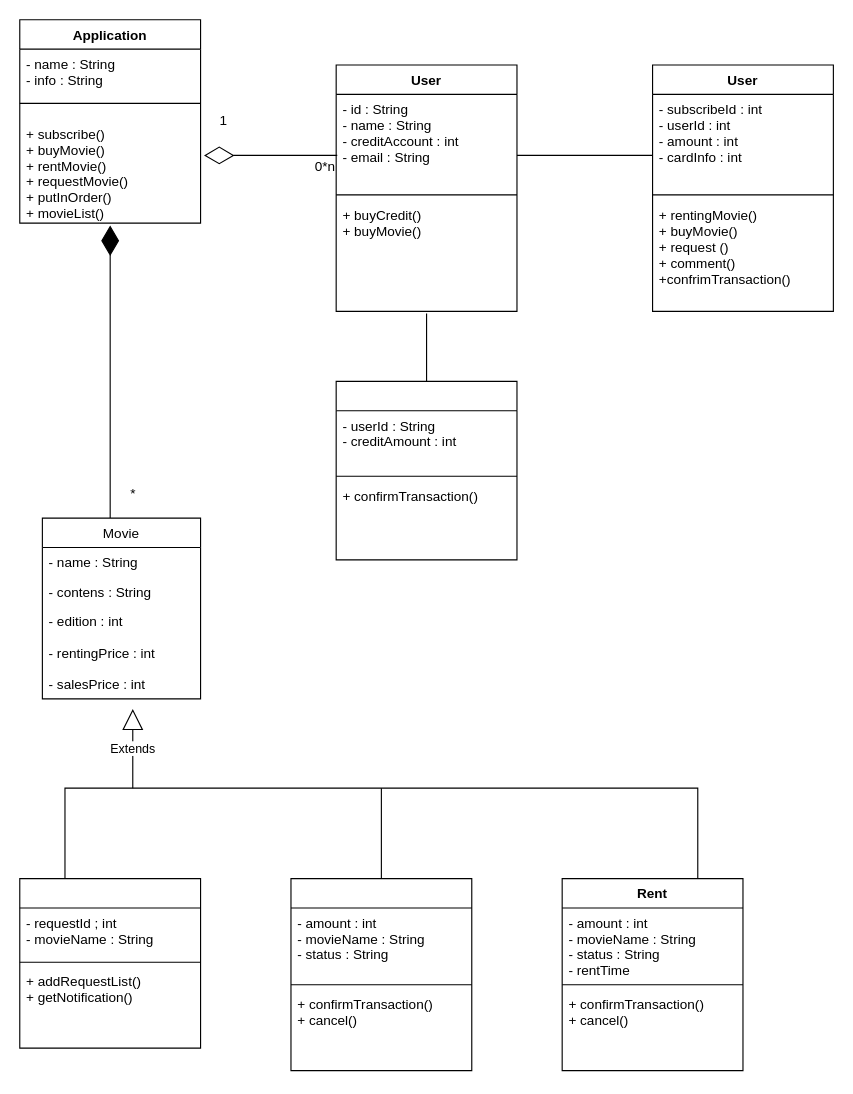
Some shapes in this 853 by 1094 pixel diagram are drawn without their labels. The shapes that lost their labels are listed below. From the top down, each one's box as (x1, y1, x2, y2) in pixels, then its label:
(335, 380, 517, 560): Buy Credit
(19, 877, 201, 1048): Request Movie
(290, 877, 472, 1071): Buy Movie
